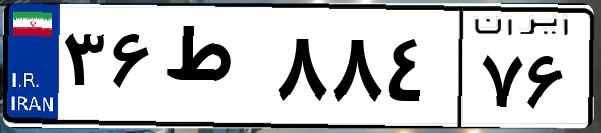3: (57, 26, 110, 100)
4: (385, 28, 445, 110)
6: (525, 38, 570, 115), (110, 28, 158, 98)
7: (475, 38, 525, 113)
8: (270, 28, 330, 110), (330, 28, 385, 110)
ط: (158, 20, 270, 120)
